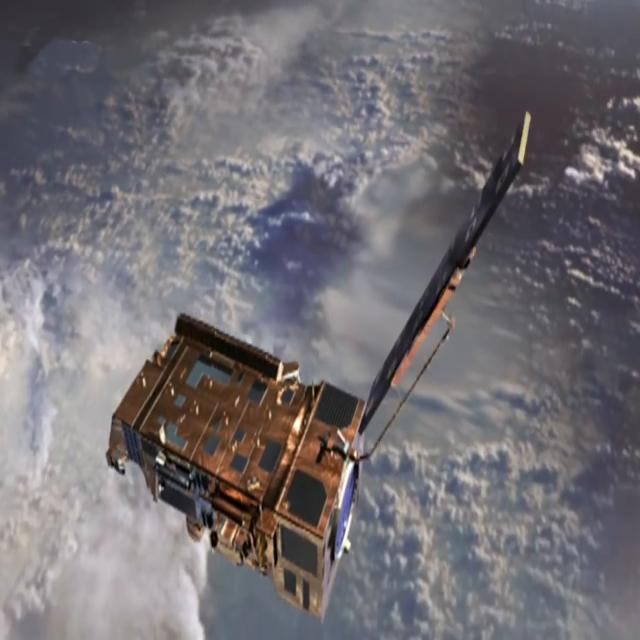satellite: (100, 104, 534, 629)
